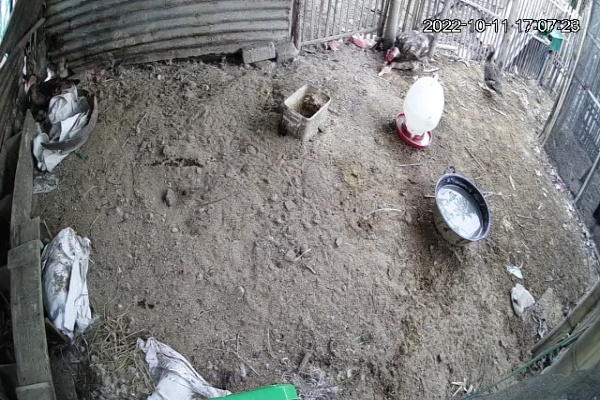Kawin: (376, 24, 437, 78)
